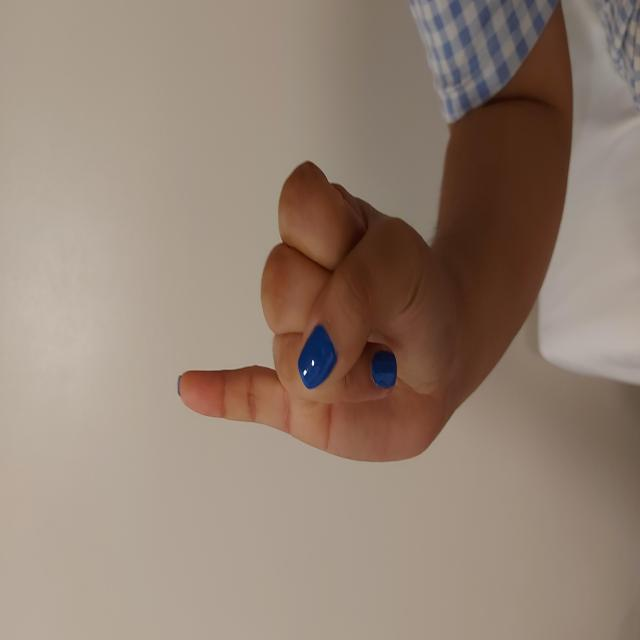I: (178, 176, 479, 456)
